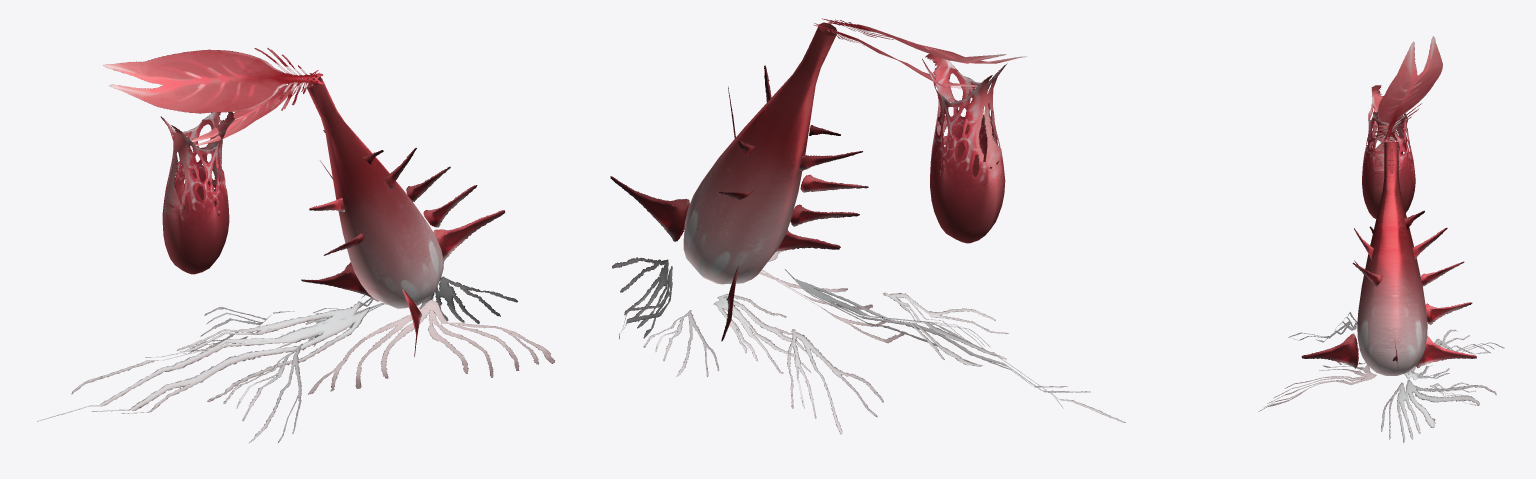
The picture shows the model from 3 angles, left to right: view 1: azimuth 30°, elevation 25°; view 2: azimuth 150°, elevation 25°; view 3: azimuth 270°, elevation 25°; orthographic projection. The views are drawn at different scales.
Visible parts, largest first — view 1: A04; view 2: A04; view 3: A04.
Part boxes in pixels (box(x1,y1,x2,y2)): A04: box(37, 48, 554, 443); A04: box(610, 18, 1125, 434); A04: box(1258, 36, 1504, 442).
Size of the model in its own units: 1107 by 778 by 724.
